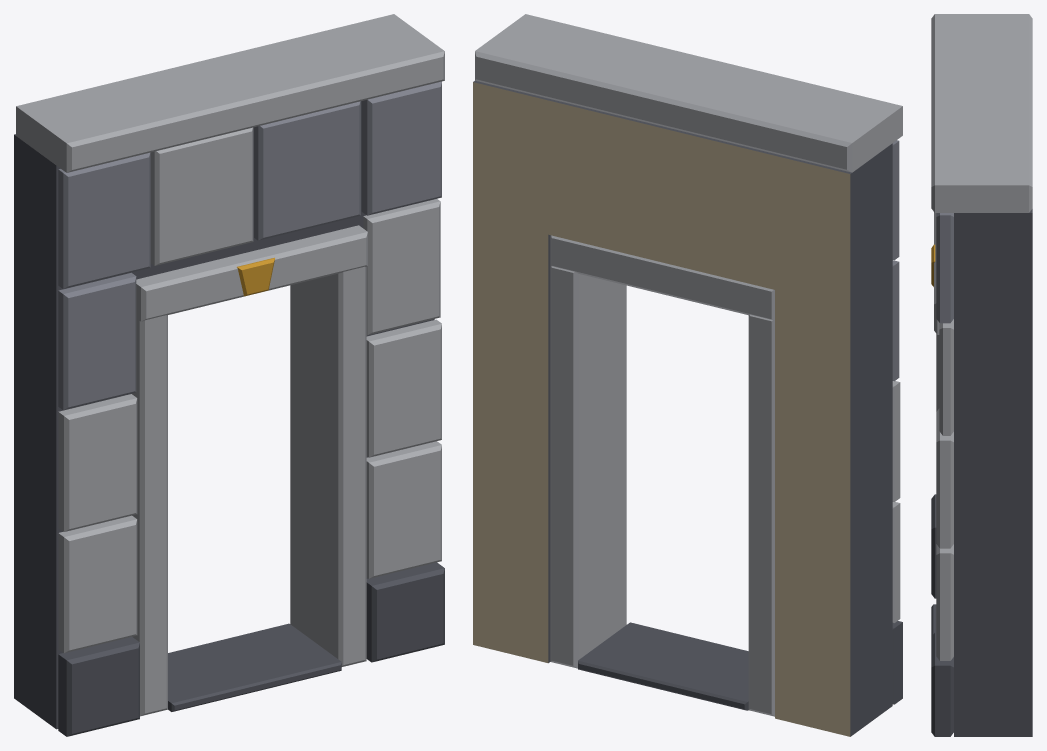
Rendered from WallDoor_04.glb.
The picture shows the model from 3 angles, left to right: view 1: azimuth 30°, elevation 25°; view 2: azimuth 150°, elevation 25°; view 3: azimuth 270°, elevation 25°; orthographic projection. The views are drawn at different scales.
Visible parts, largest first — view 1: WallDoor_04; view 2: WallDoor_04; view 3: WallDoor_04.
Boxes of the visible parts, x1,y1,x2,y2 form: WallDoor_04: [14, 14, 444, 736]; WallDoor_04: [473, 14, 902, 736]; WallDoor_04: [931, 14, 1032, 736].
Size of the model in its own units: 8 by 12 by 2.
